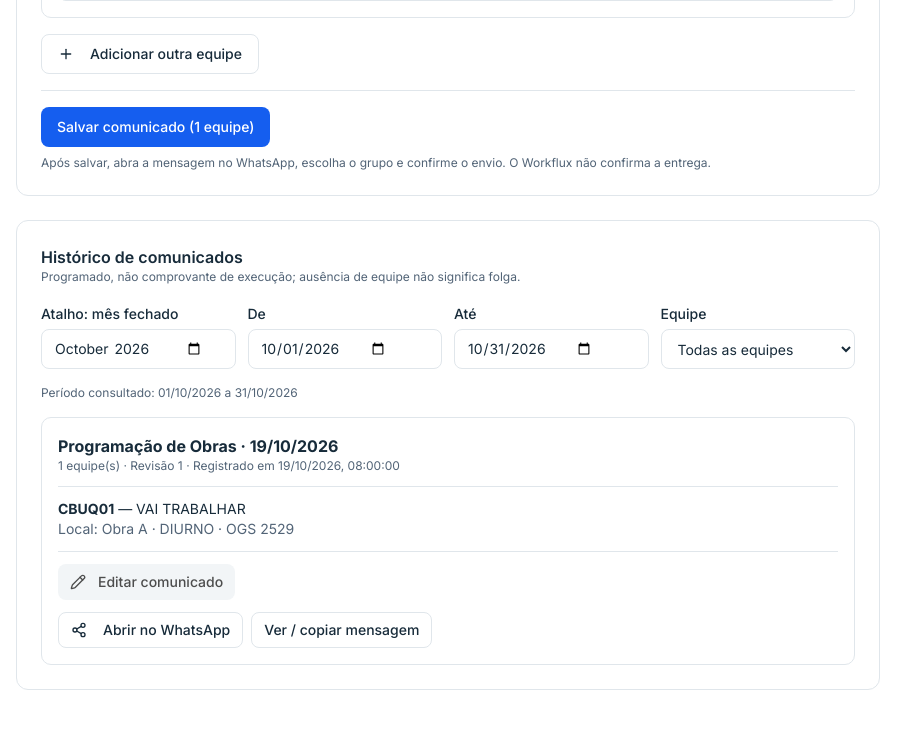
abre o comunicado salvo para corrigir uma equipe sem mudar a data ou equipe
(page scrolled)
Check: the heading "Programação de Obras · 19/10/2026" is shown, box [58, 436, 338, 456]
What coordinates should you click on to do the following:
click the button "Editar comunicado"
I would click on:
 (147, 582)
Its box is [58, 564, 235, 600].
(page scrolled)
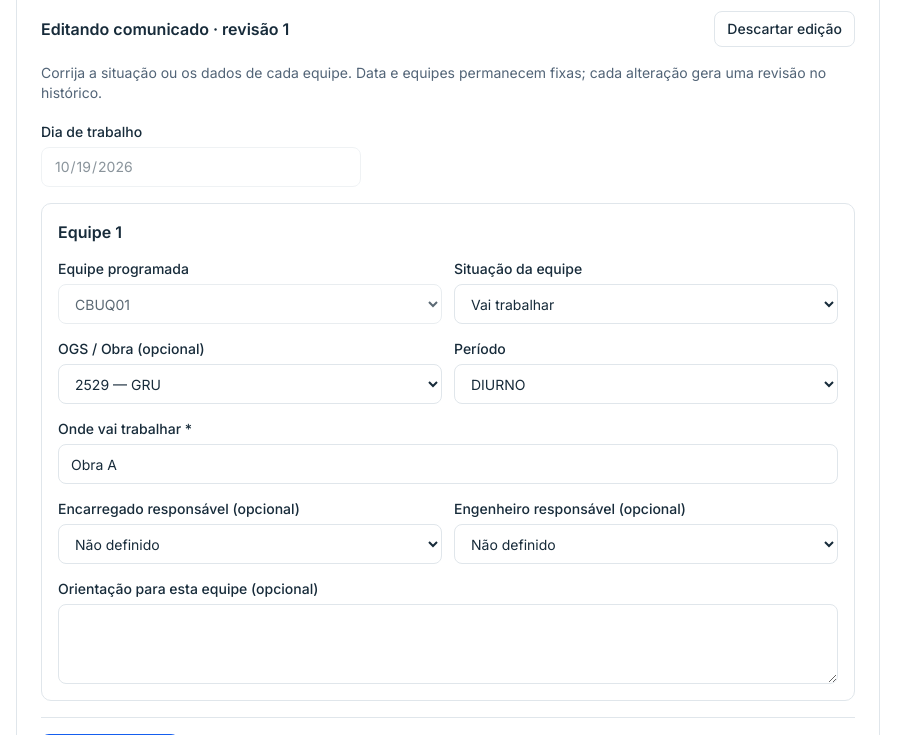
Check: the heading "Editando comunicado · revisão 1" is shown, box [41, 17, 289, 41]
Check: the date field labelled "Dia de trabalho" is disabled, box [41, 147, 361, 187]
Check: the dropdown labelled "Equipe programada" is disabled, box [58, 284, 442, 324]
